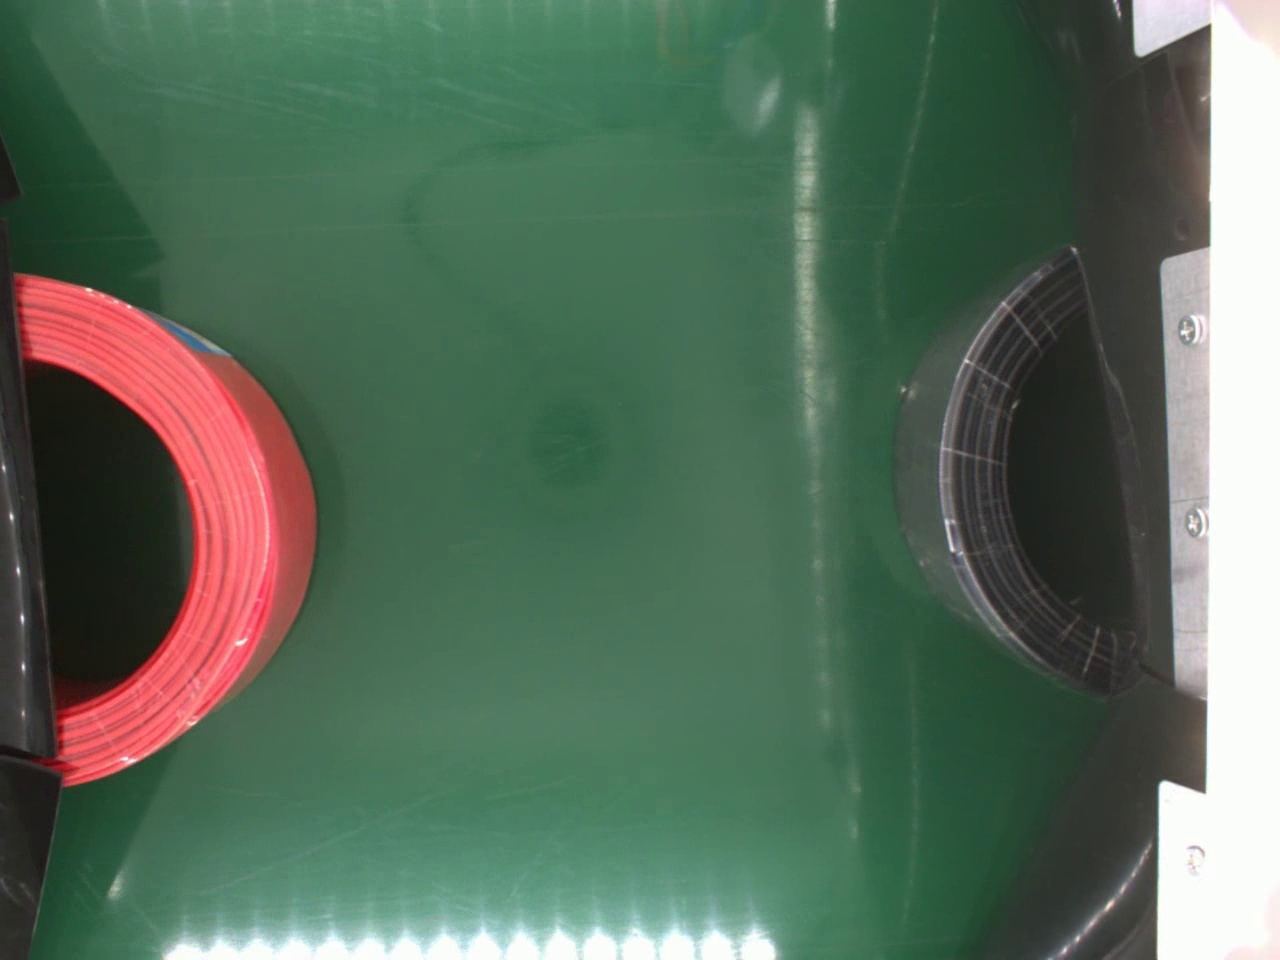black: (899, 243, 1146, 696)
red: (16, 266, 323, 795)
